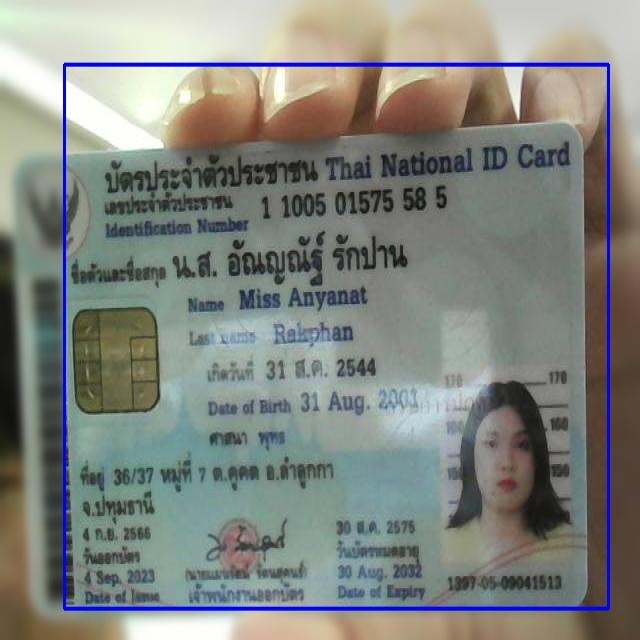Address_th: (75, 444, 348, 526)
Date_of_Birth: (297, 386, 422, 420)
Date_of_Expiry: (335, 558, 426, 585)
Date_of_Issue: (80, 566, 166, 591)
First_Name: (236, 285, 371, 314)
ID_Number: (259, 182, 452, 225)
Image: (440, 366, 577, 570)
Last_Name: (270, 317, 356, 350)
Thai_Name: (168, 227, 426, 288)
